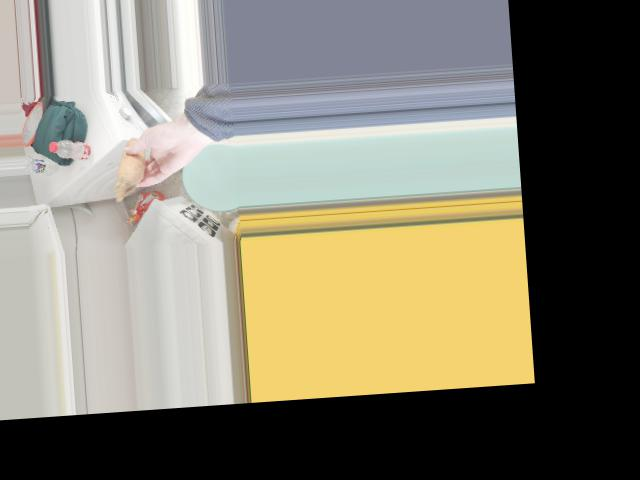sweet_potato: (116, 144, 145, 184)
